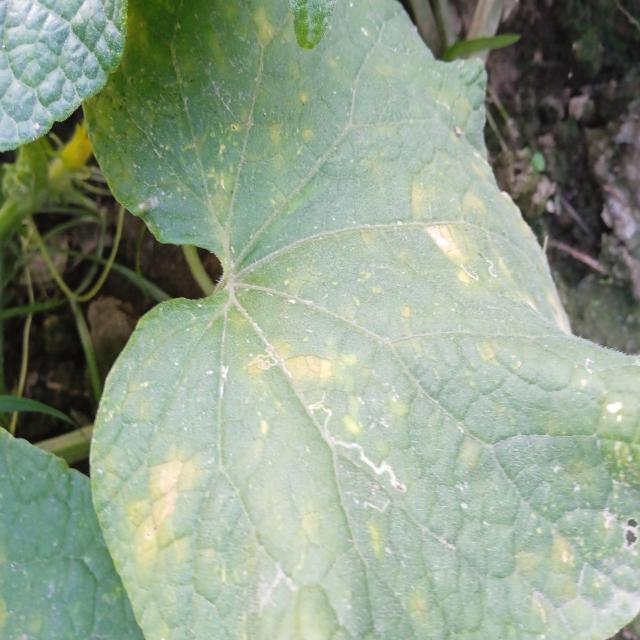cucumber_downy: (129, 329, 640, 640), (242, 69, 496, 512)
